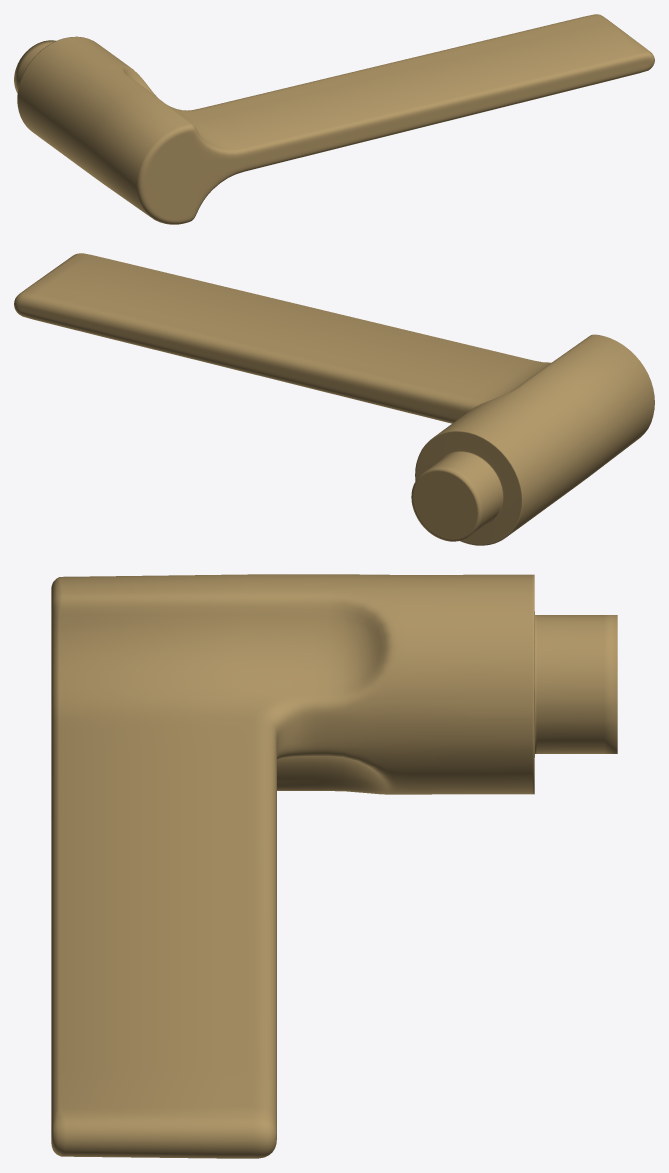
Rendered from maniglia-ginkgo.glb.
3 renders of one model, top to bottom at view 1: azimuth 30°, elevation 25°; view 2: azimuth 150°, elevation 25°; view 3: azimuth 270°, elevation 25°, orthographic. The views are drawn at different scales.
Visible parts, largest first — view 1: Ginkgo_PVDBG; view 2: Ginkgo_PVDBG; view 3: Ginkgo_PVDBG.
Boxes of the visible parts, left/top/right/bottom form: Ginkgo_PVDBG: left=14, top=14, right=654, bottom=224; Ginkgo_PVDBG: left=14, top=253, right=654, bottom=545; Ginkgo_PVDBG: left=51, top=574, right=617, bottom=1158.
Bounding box in the file's own units: 0.1352 × 0.0248 × 0.0637.
